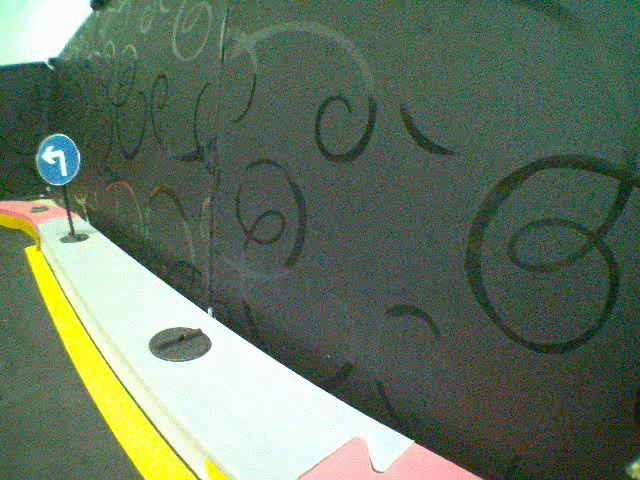turn: (35, 133, 78, 187)
